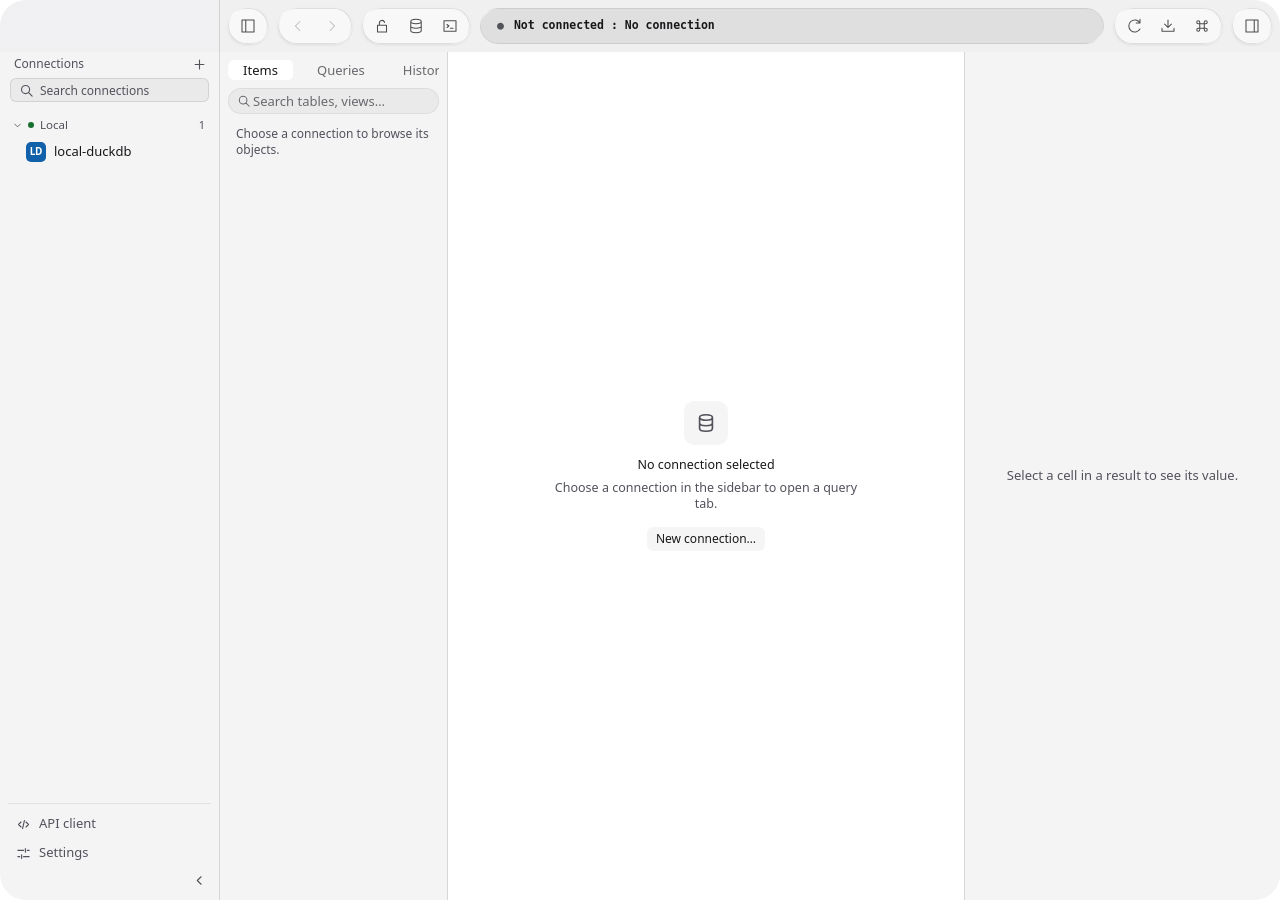
Test: browses the catalog and shares one session across query tabs
The image size is (1280, 900).
Click the button with aria-label "Switch to local-duckdb" at (118, 152), box [26,138,211,166]
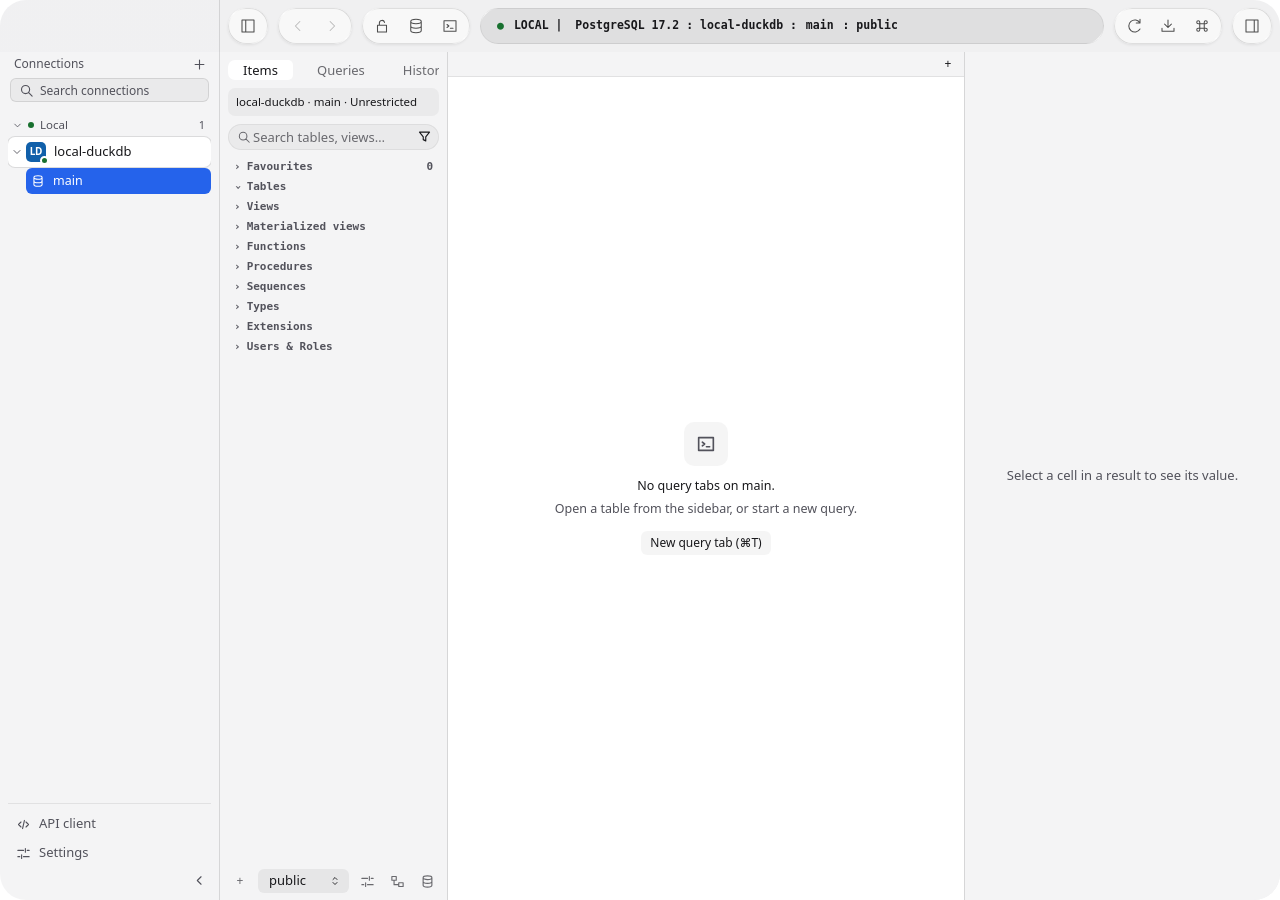
Expected: the button named "Refresh" is enabled, [1117,11,1151,41]
Click the button named "New SQL query" at (450, 26), box [433,11,467,41]
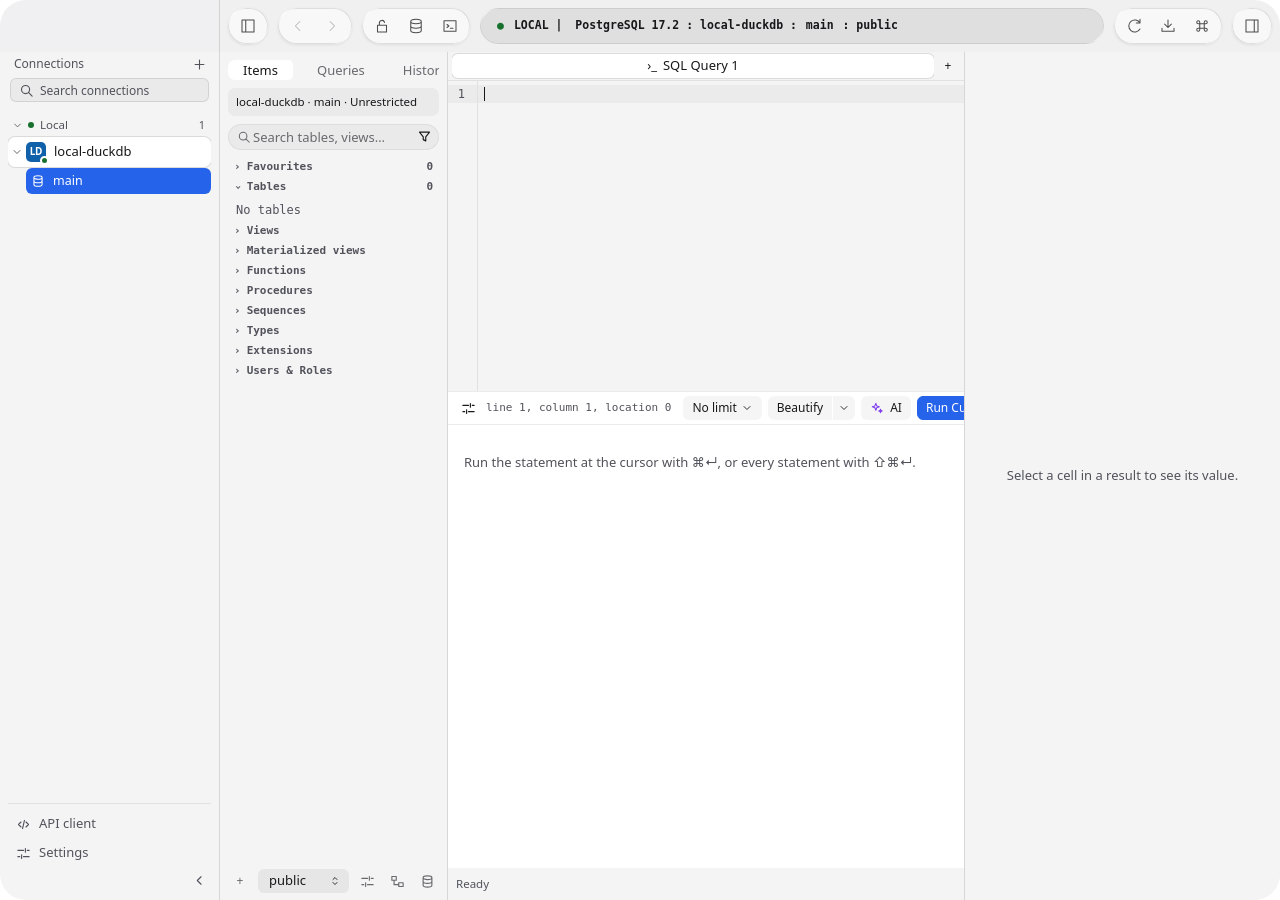
Now the tab "›_ SQL Query 1" is shown, box [452,54,934,78]
Click the button named "New SQL query" at (450, 26), box [433,11,467,41]
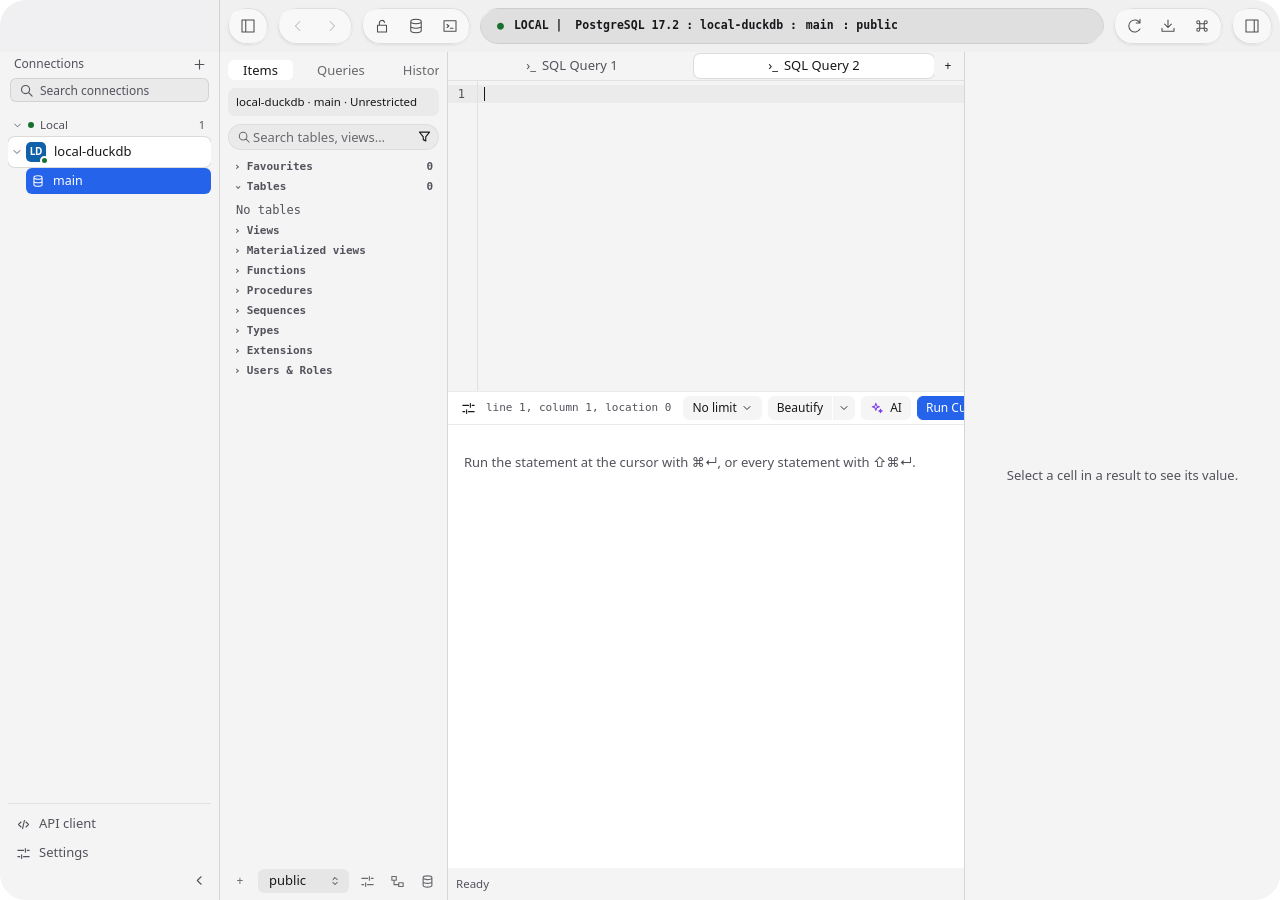
Now the tab "›_ SQL Query 2" is shown, box [694,54,934,78]
